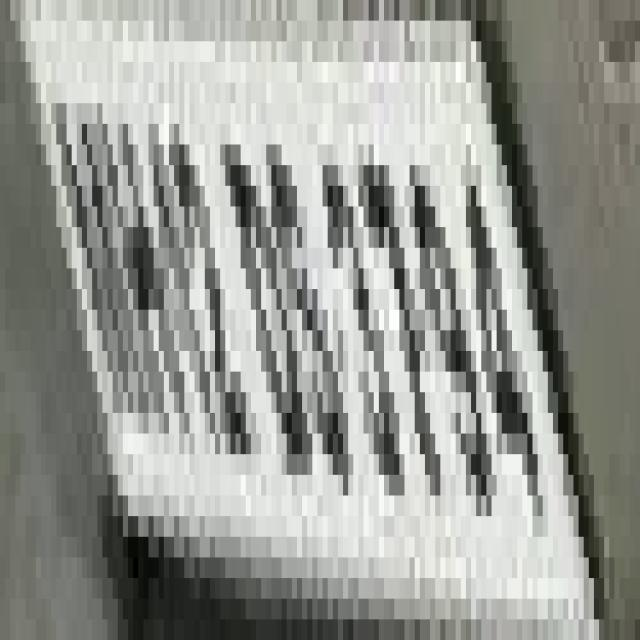license_plate: (0, 21, 604, 619)
